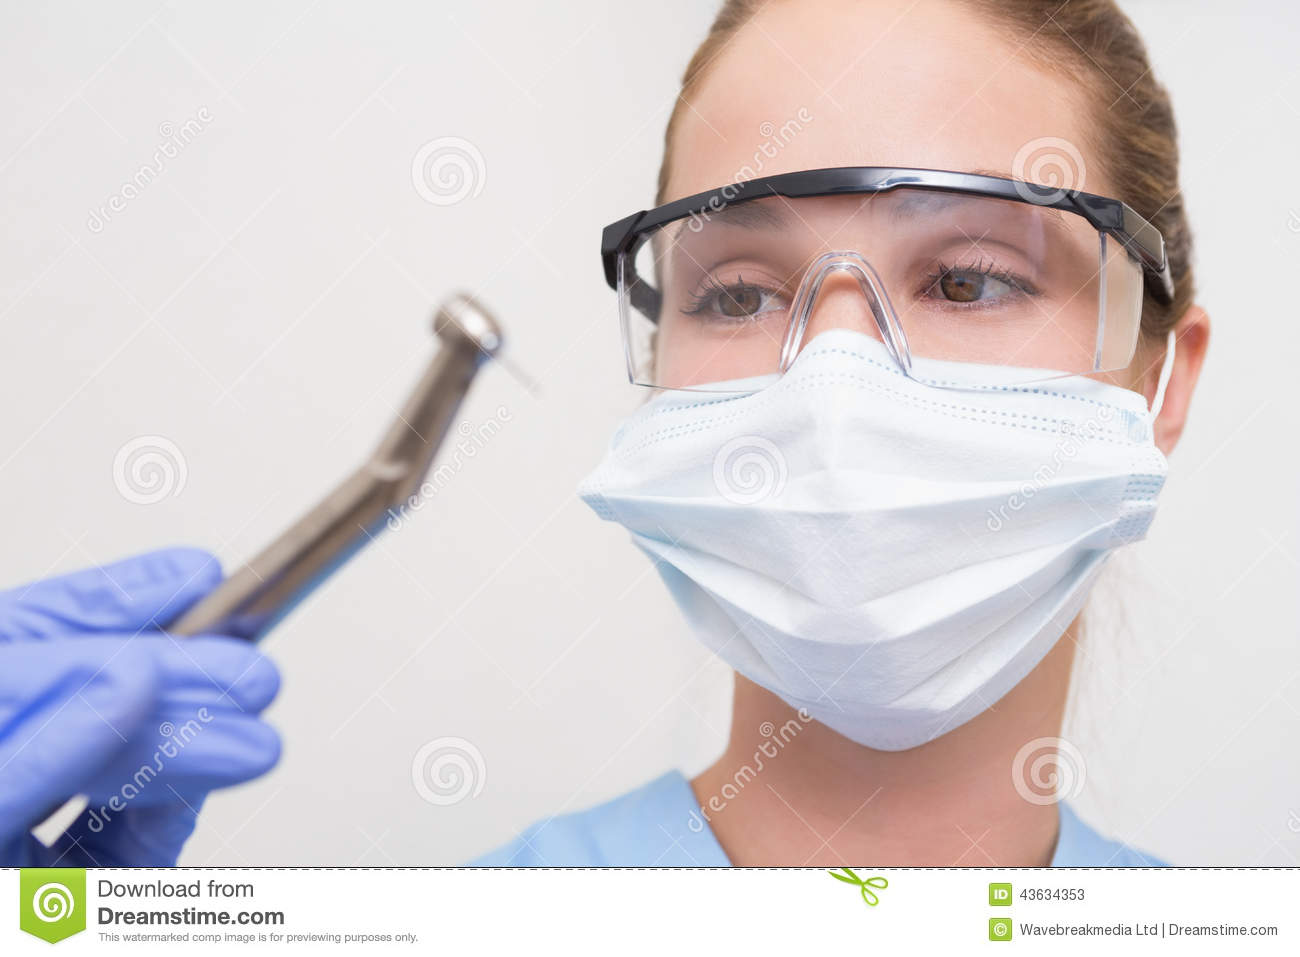mask: (591, 363, 1192, 752)
